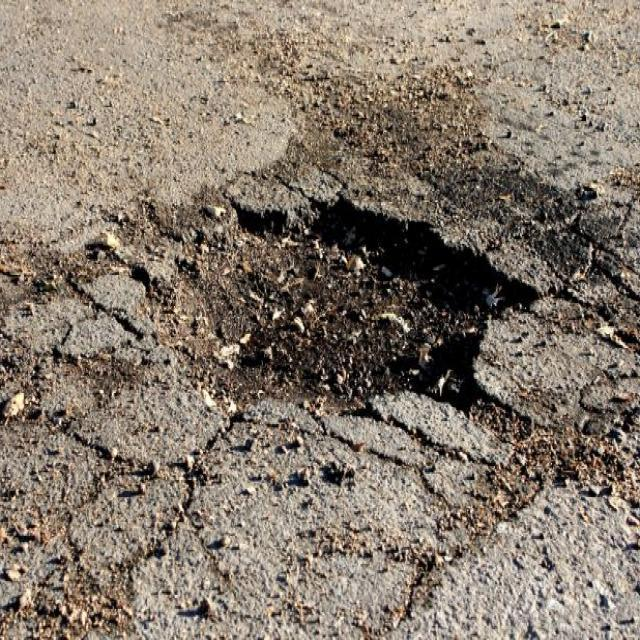pothole: (132, 184, 542, 450)
